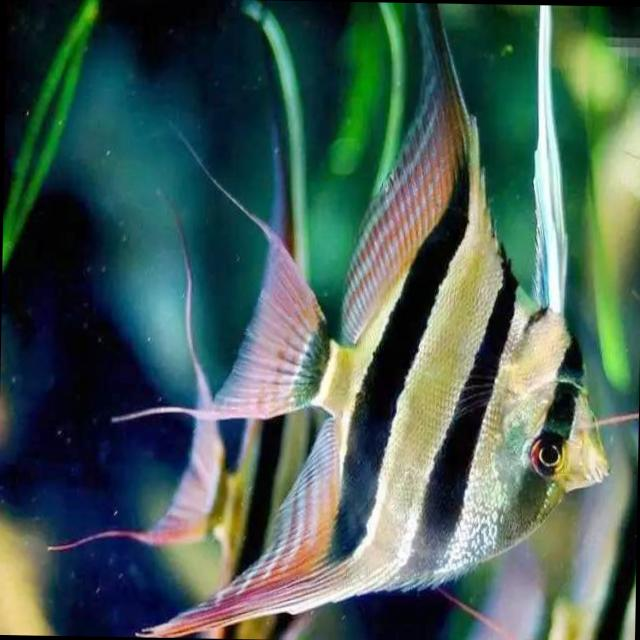AngelFish: (97, 17, 610, 640)
